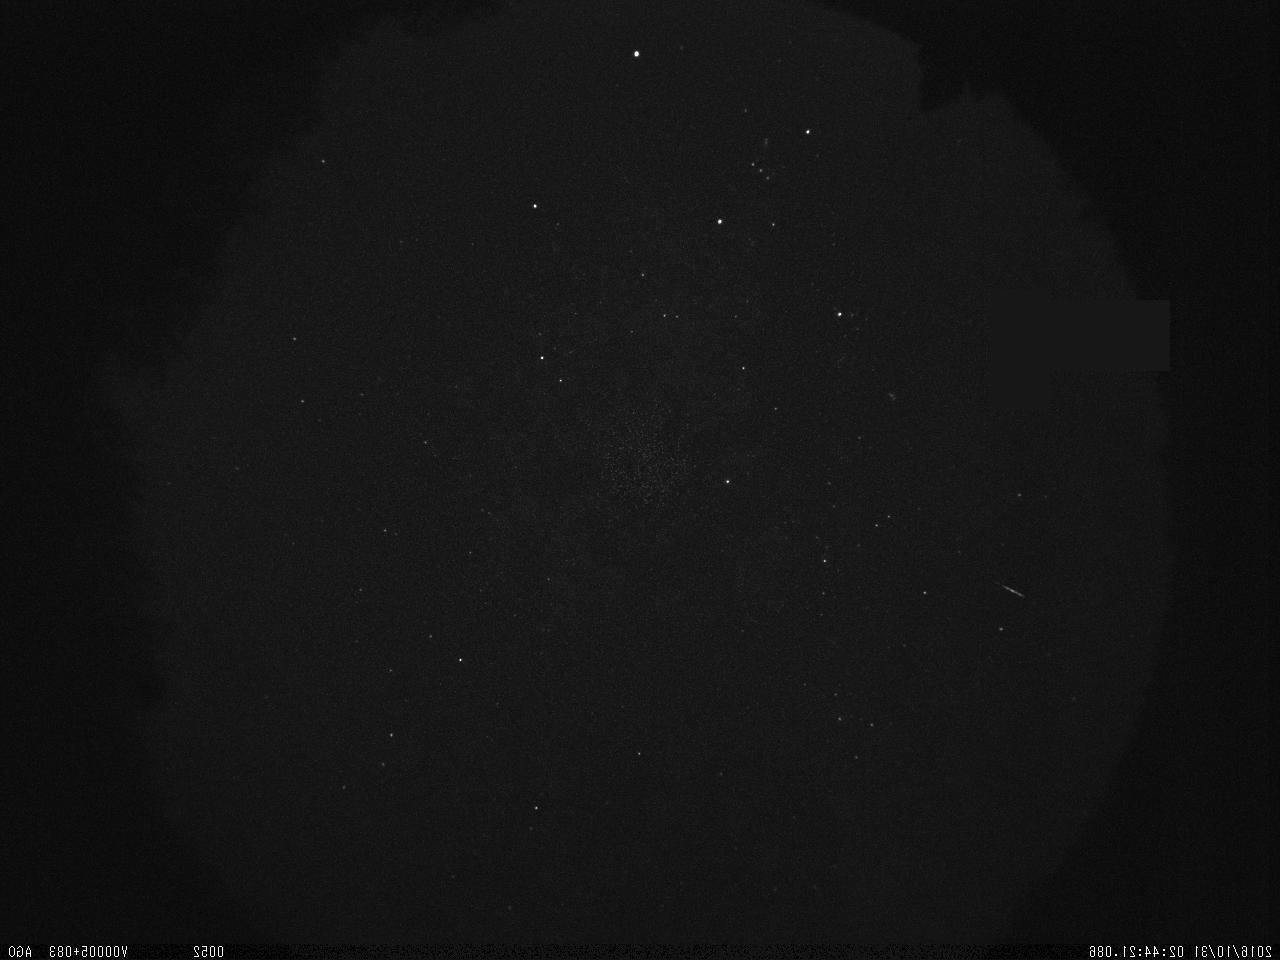meteor: (999, 582, 1035, 602)
